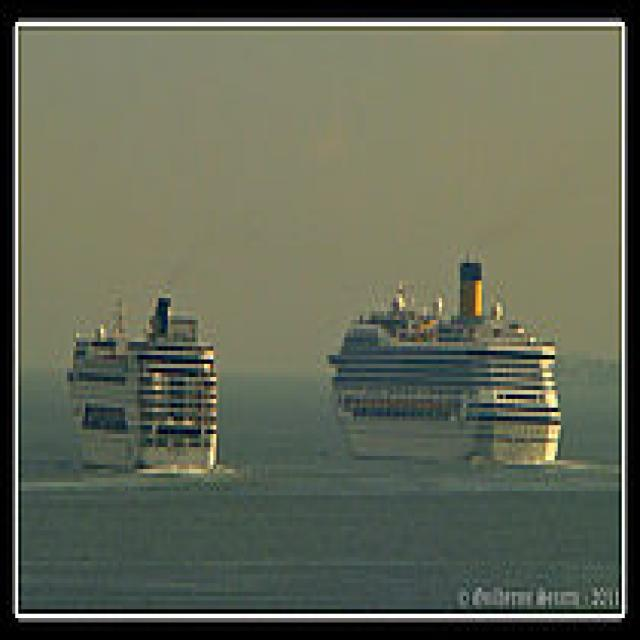Ship: (318, 233, 577, 479), (53, 273, 233, 488)
